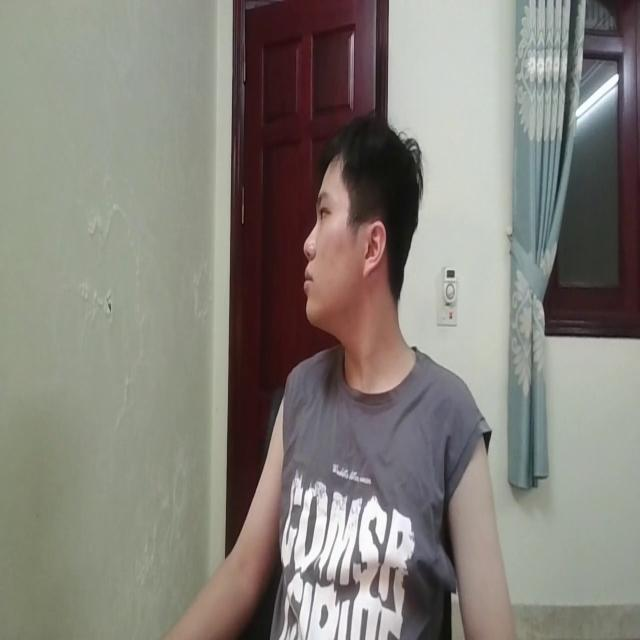student: (178, 115, 513, 640)
